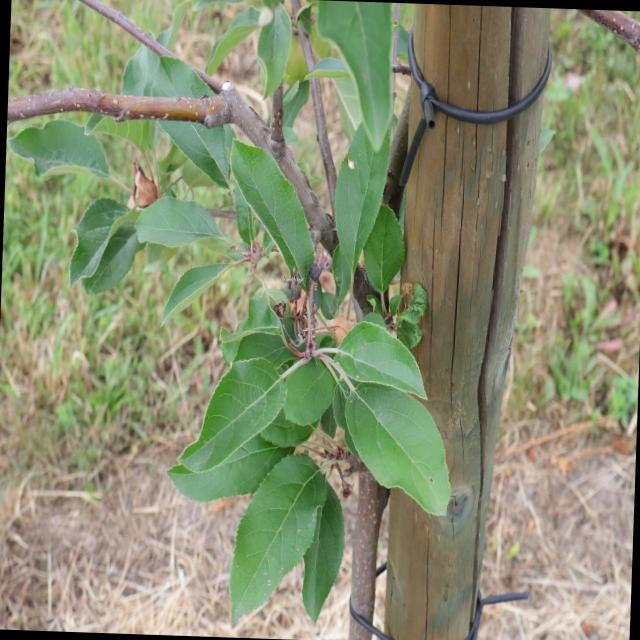-FireBlight-: (125, 157, 158, 210)
